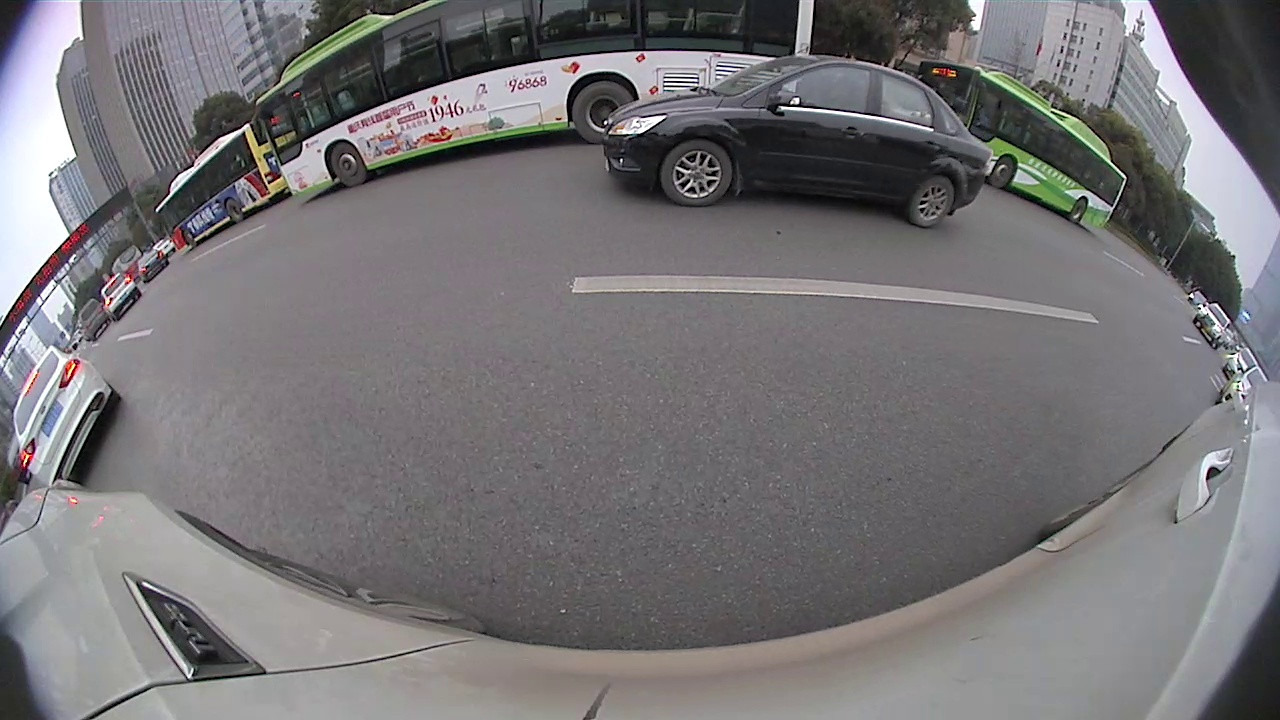bus: (253, 1, 815, 208), (915, 52, 1130, 236), (150, 118, 287, 261)
car: (600, 50, 994, 231), (11, 342, 122, 491)
front: (658, 137, 734, 208), (328, 142, 369, 188), (989, 151, 1018, 192)
rear: (570, 81, 635, 146), (909, 173, 957, 233), (224, 198, 245, 224), (1072, 196, 1086, 227)
